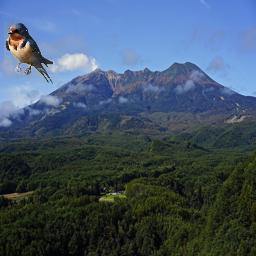Swallow: (4, 22, 53, 85)
